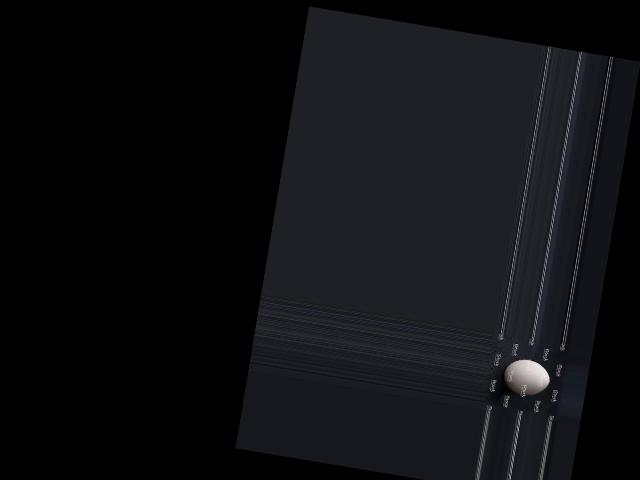egg: (500, 356, 552, 399)
